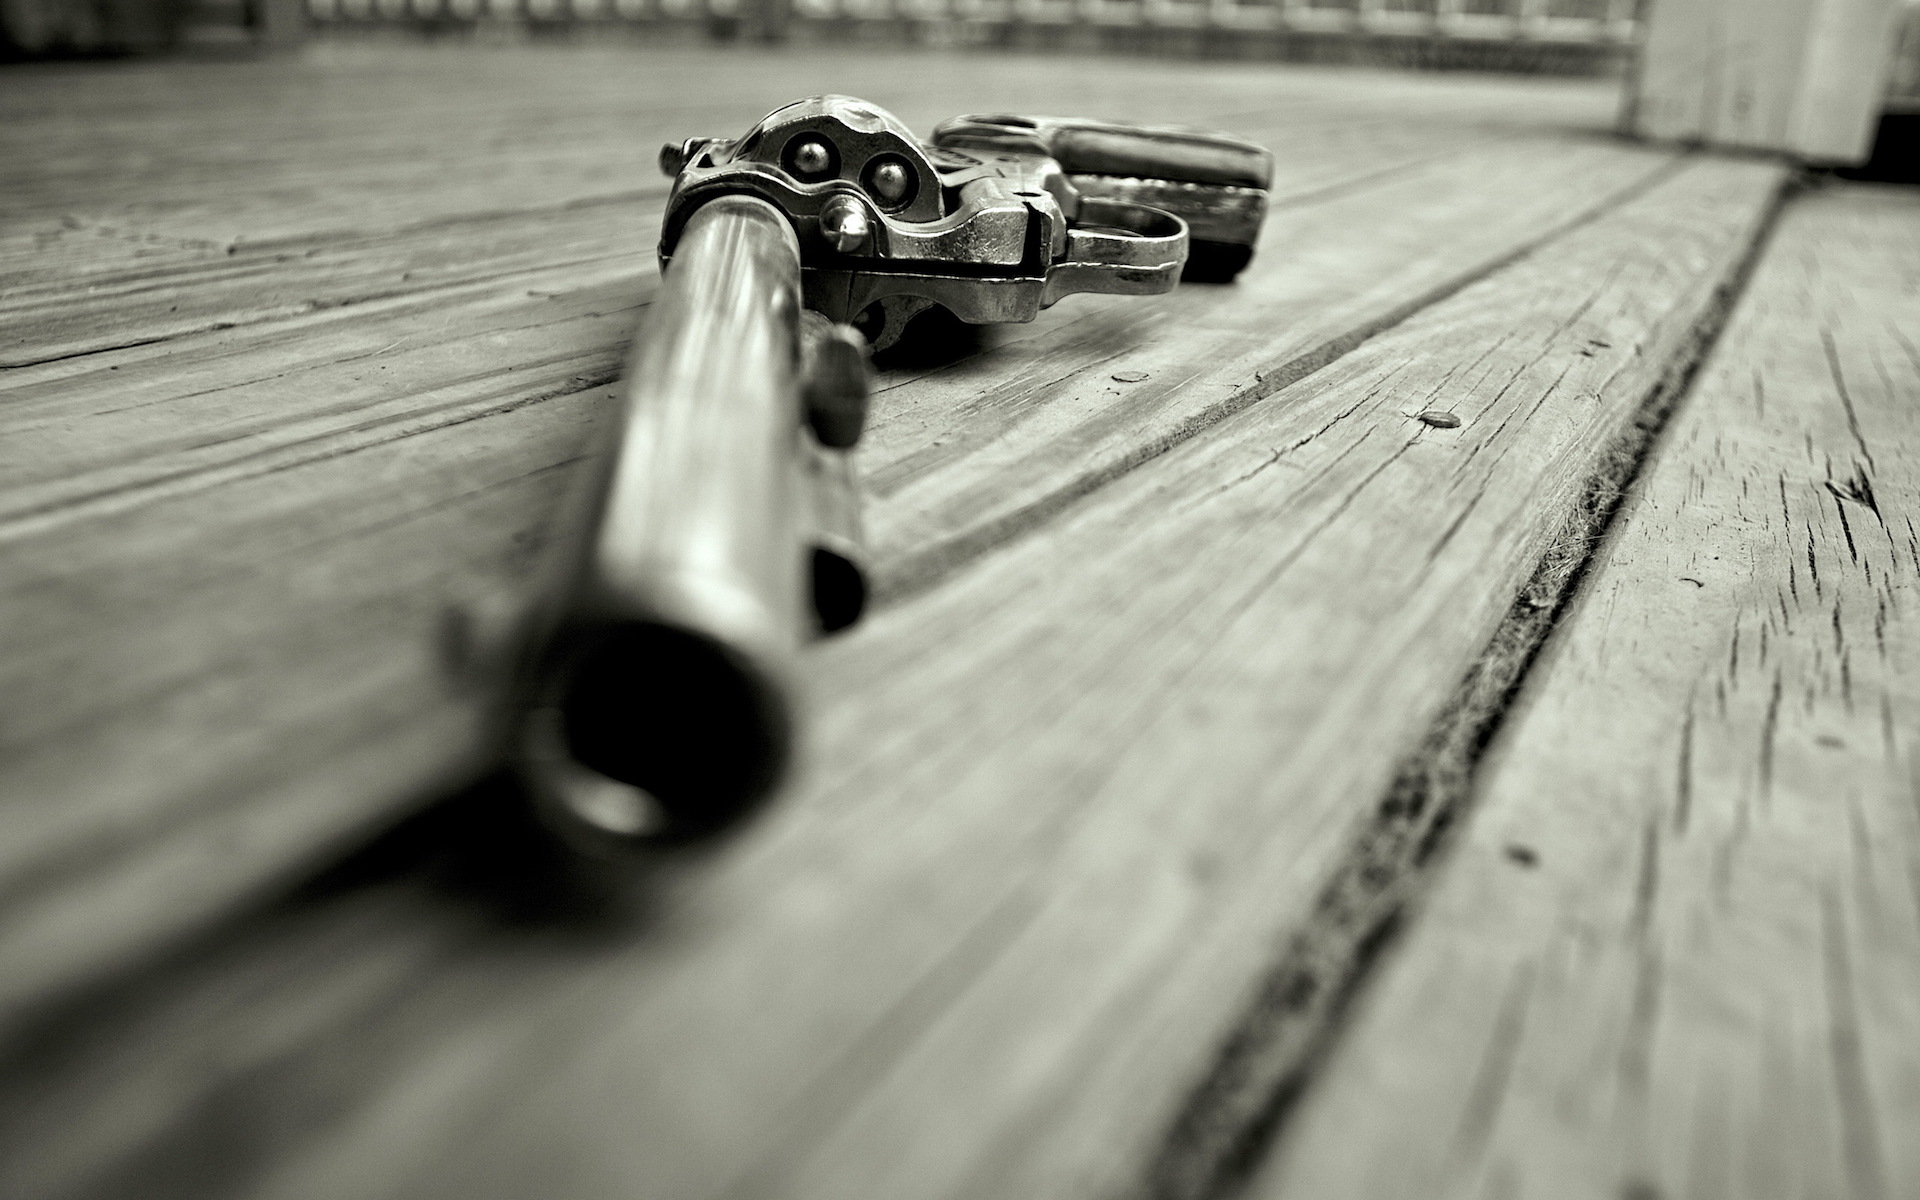pistol: (487, 87, 1279, 890)
